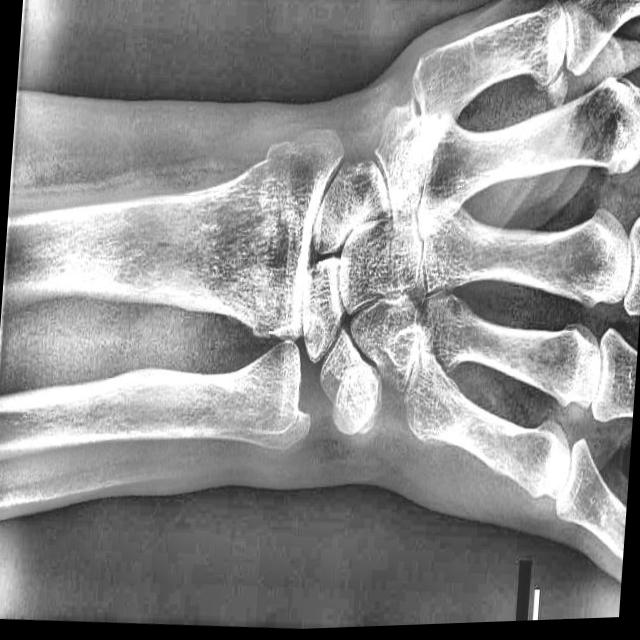fracture: (241, 141, 288, 344)
